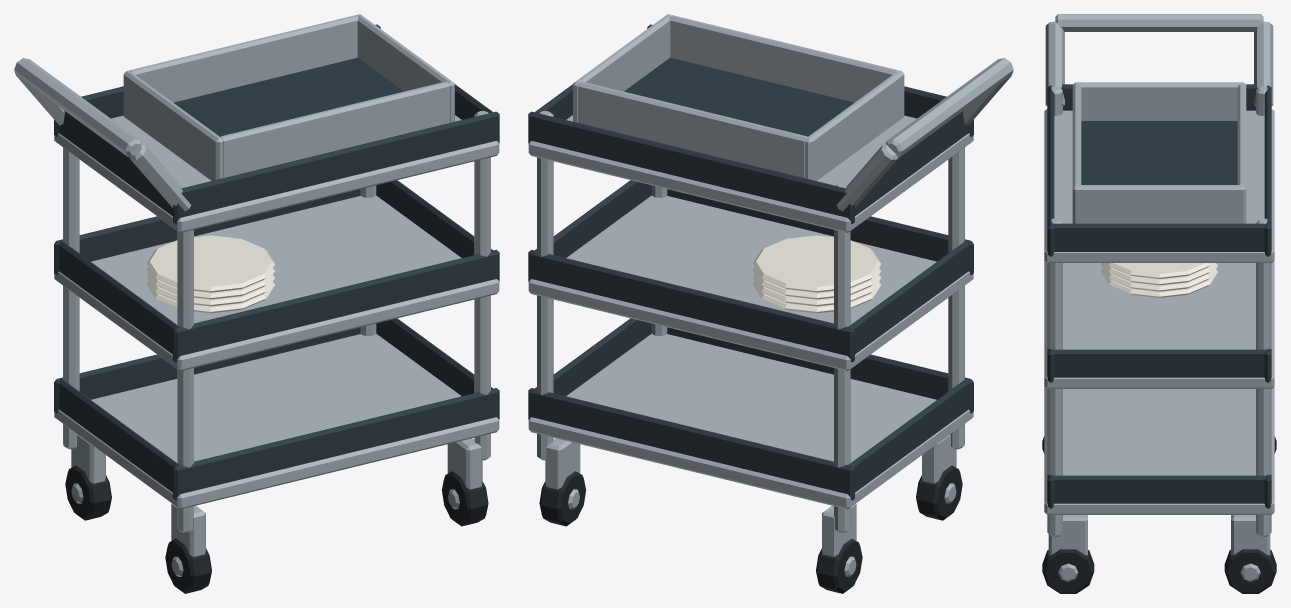
The model's file is b10_restaurant_busser_service_cart.glb.
3 views of the same model, side by side, from view 1: azimuth 30°, elevation 25°; view 2: azimuth 150°, elevation 25°; view 3: azimuth 270°, elevation 25° (orthographic). The views are drawn at different scales.
Visible parts, largest first — view 1: b10_restaurant_busser_service_cart; view 2: b10_restaurant_busser_service_cart; view 3: b10_restaurant_busser_service_cart.
Boxes of the visible parts, bbox=[...] form: b10_restaurant_busser_service_cart: bbox=[14, 14, 499, 593]; b10_restaurant_busser_service_cart: bbox=[528, 14, 1013, 593]; b10_restaurant_busser_service_cart: bbox=[1042, 14, 1276, 593].
Size of the model in its own units: 0.897 by 1.08 by 0.54.
